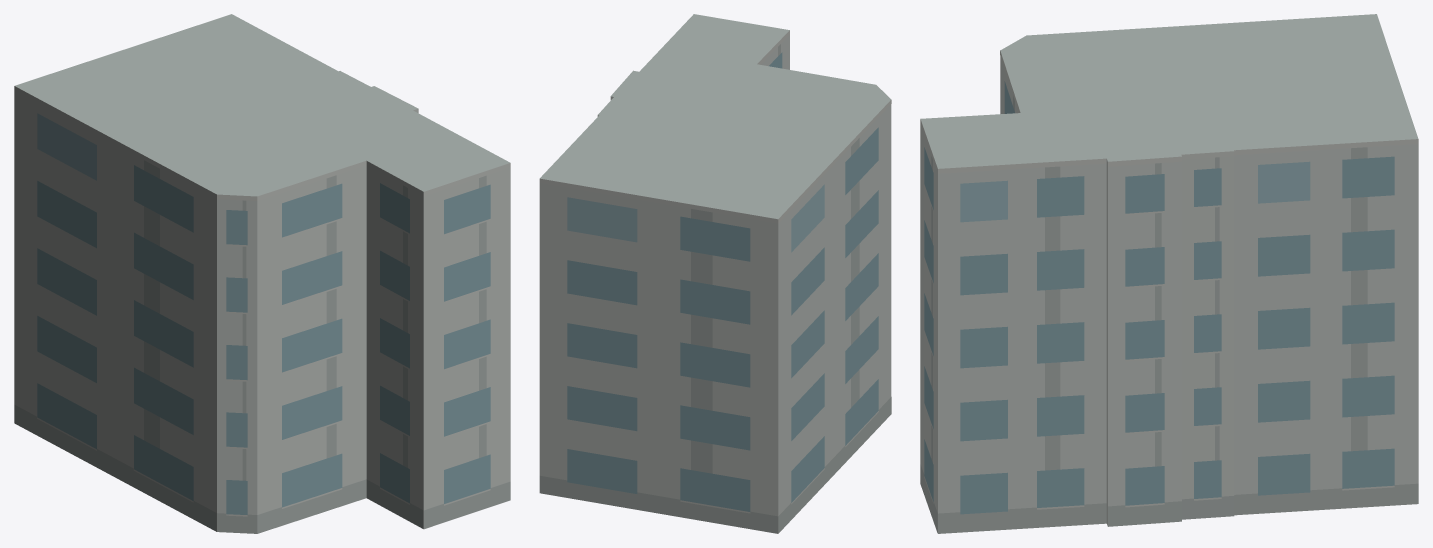
Rendered from survey-upis-32631819.glb.
The picture shows the model from 3 angles, left to right: view 1: azimuth 30°, elevation 25°; view 2: azimuth 150°, elevation 25°; view 3: azimuth 270°, elevation 25°; orthographic projection. The views are drawn at different scales.
Visible parts, largest first — view 1: survey-upis-32631819.tmp; view 2: survey-upis-32631819.tmp; view 3: survey-upis-32631819.tmp.
Part boxes in pixels (left/top/right/bottom): survey-upis-32631819.tmp: left=14, top=14, right=510, bottom=533; survey-upis-32631819.tmp: left=539, top=14, right=891, bottom=533; survey-upis-32631819.tmp: left=920, top=14, right=1418, bottom=533.
Bounding box in the file's own units: 15.93 × 17.5 × 21.65.
